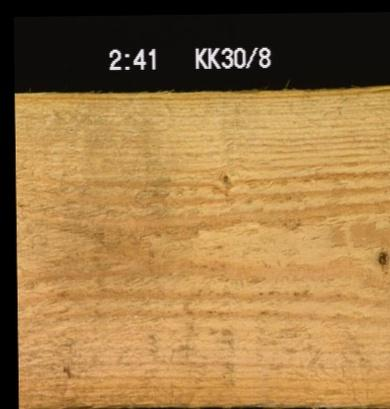small_knot: (56, 357, 83, 382), (214, 165, 235, 187)
